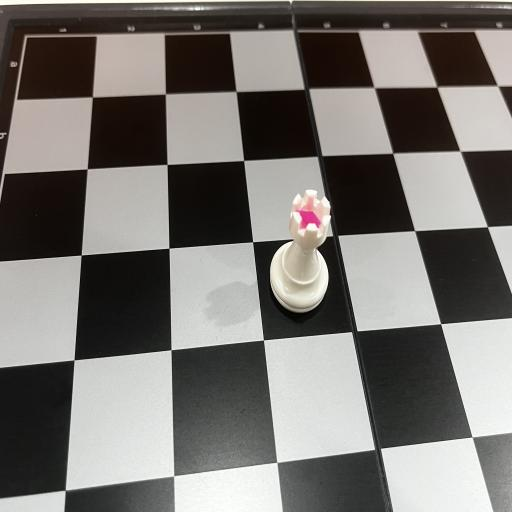White rook: (269, 188, 331, 312)
